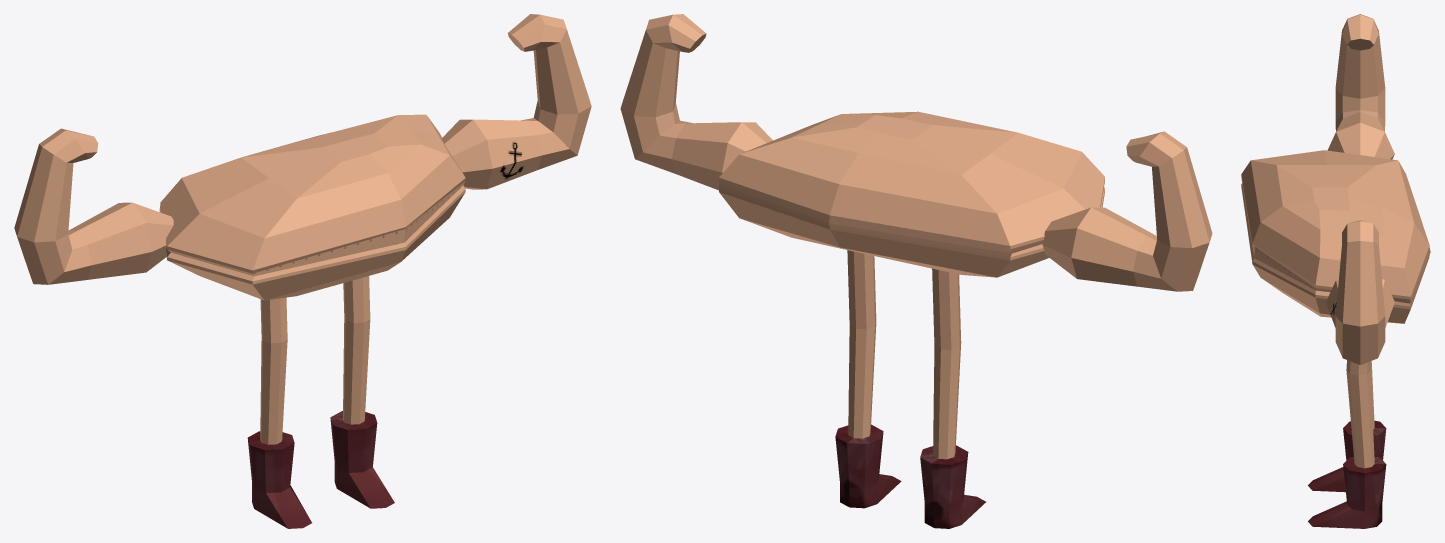
Rendered from HiredMussel.fbx.
3 renders of one model, left to right at view 1: azimuth 30°, elevation 25°; view 2: azimuth 150°, elevation 25°; view 3: azimuth 270°, elevation 25°, orthographic. The views are drawn at different scales.
Visible parts, largest first — view 1: Cylinder; view 2: Cylinder; view 3: Cylinder.
Boxes of the visible parts, box(x1,y1,x2,y2) form: Cylinder: box(14, 14, 591, 528); Cylinder: box(620, 14, 1212, 528); Cylinder: box(1241, 14, 1430, 528).
Size of the model in its own units: 714 by 509 by 230.
Materials: 4 (4 with a texture image).
